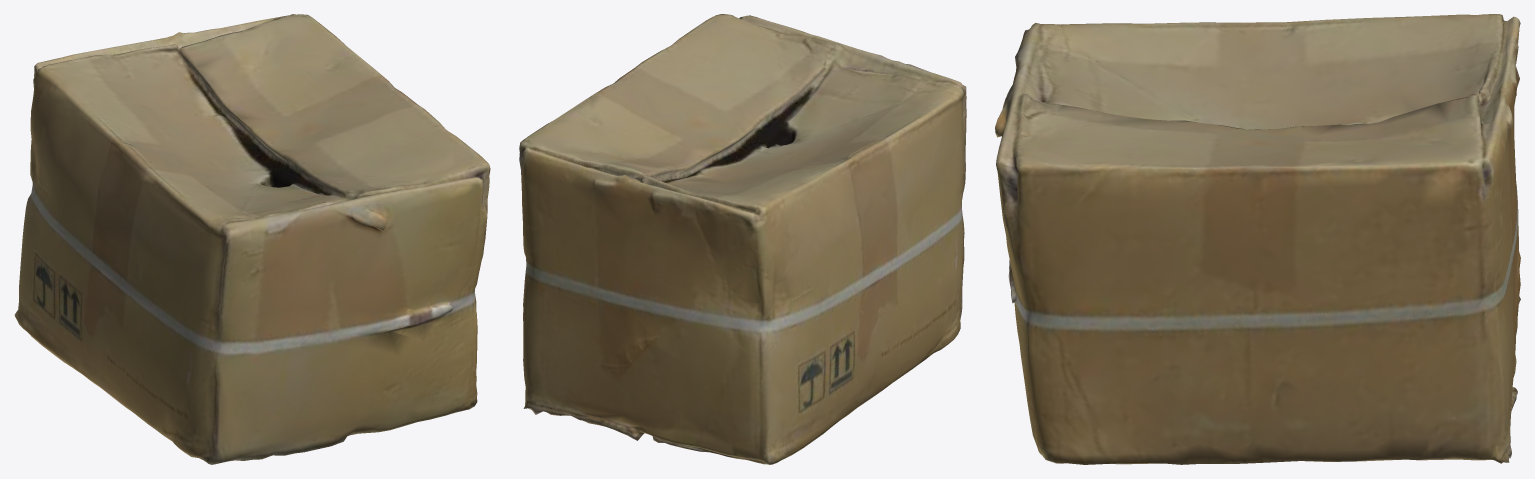
File: cardboard_box.glb
3 views of the same model, side by side, from view 1: azimuth 30°, elevation 25°; view 2: azimuth 150°, elevation 25°; view 3: azimuth 270°, elevation 25° (orthographic). The views are drawn at different scales.
Parts seen in each view (by area): view 1: cardboard_box_01; view 2: cardboard_box_01; view 3: cardboard_box_01.
Part boxes in pixels (box(x1,y1,x2,y2)): cardboard_box_01: box(14, 14, 490, 464); cardboard_box_01: box(519, 14, 966, 464); cardboard_box_01: box(995, 14, 1520, 464).
Bounding box in the file's own units: 0.3868 × 0.3418 × 0.5159.
Materials: 1 (1 with a texture image).
